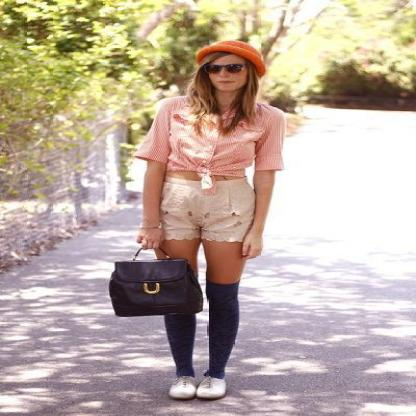bag: (109, 256, 202, 321)
hat: (195, 23, 278, 71)
shirt: (131, 77, 282, 184)
shoe: (170, 362, 224, 396)
shorts: (161, 175, 253, 241)
